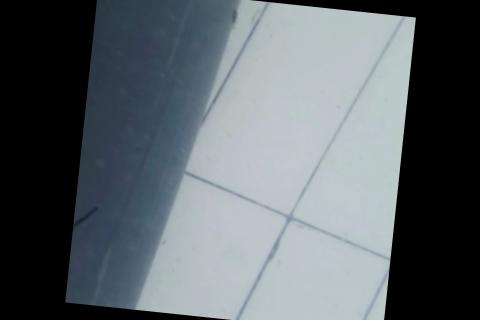keretakan: (70, 206, 99, 253)
